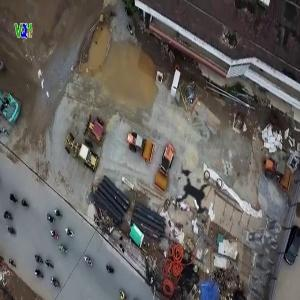drone: (145, 147, 238, 240)
